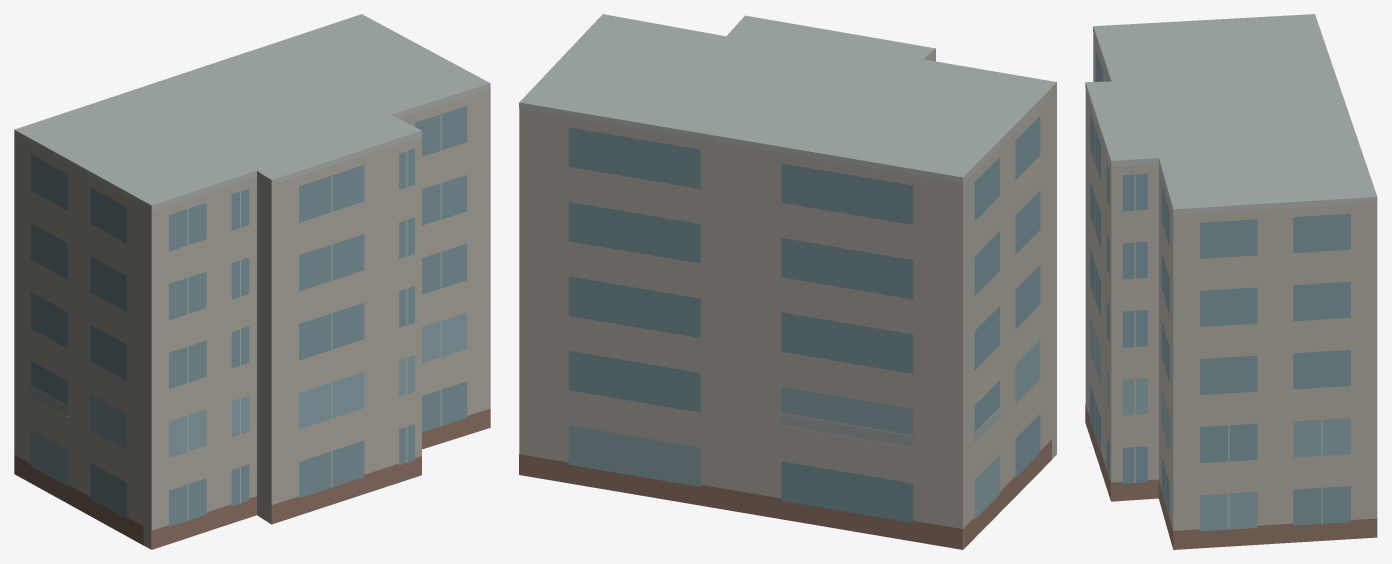
File: survey-upis-32732587.glb
3 renders of one model, left to right at view 1: azimuth 30°, elevation 25°; view 2: azimuth 150°, elevation 25°; view 3: azimuth 270°, elevation 25°, orthographic. The views are drawn at different scales.
Parts seen in each view (by area): view 1: survey-upis-32732587.tmp; view 2: survey-upis-32732587.tmp; view 3: survey-upis-32732587.tmp.
Boxes of the visible parts, x1=… form: survey-upis-32732587.tmp: x1=14, y1=14, x2=490, y2=549; survey-upis-32732587.tmp: x1=519, y1=14, x2=1056, y2=549; survey-upis-32732587.tmp: x1=1085, y1=14, x2=1377, y2=549.
Size of the model in its own units: 18.09 by 14.7 by 11.43.
